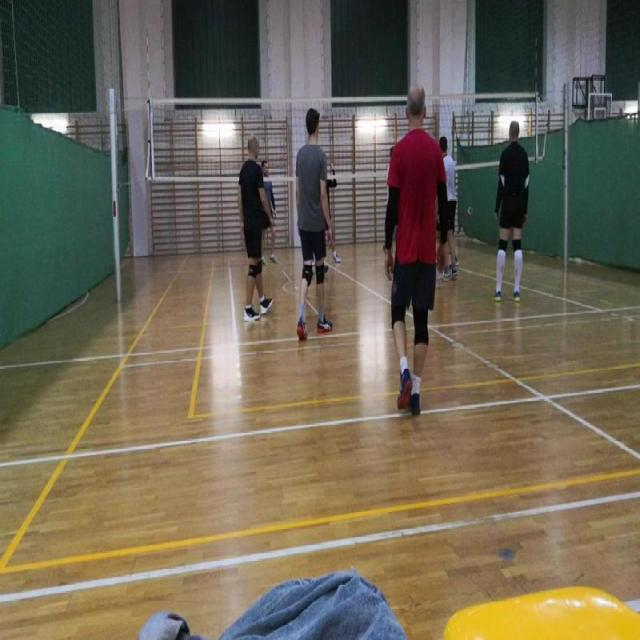volleyball: (466, 206, 474, 216)
